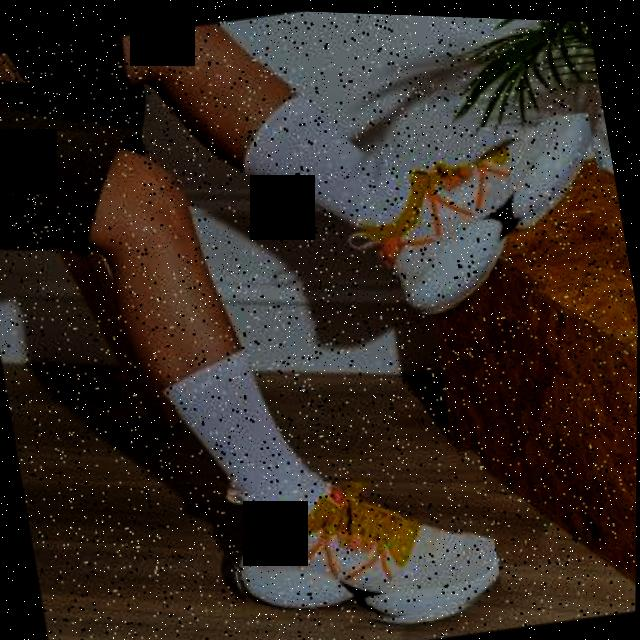shoe: (216, 437, 507, 640), (354, 100, 618, 322)
